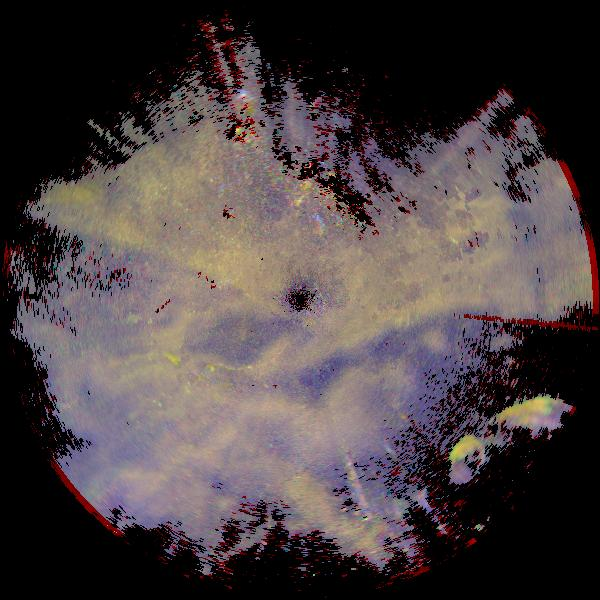roost: (150, 348, 186, 384)
